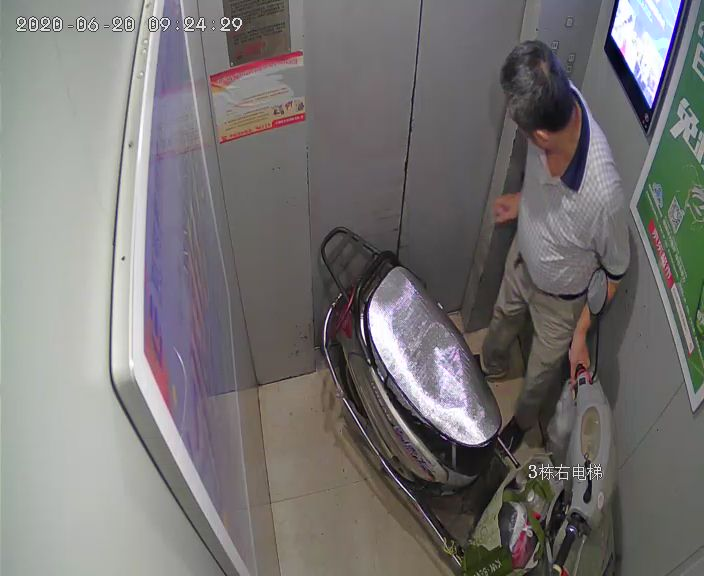Electric-bicycle: (314, 221, 619, 574)
